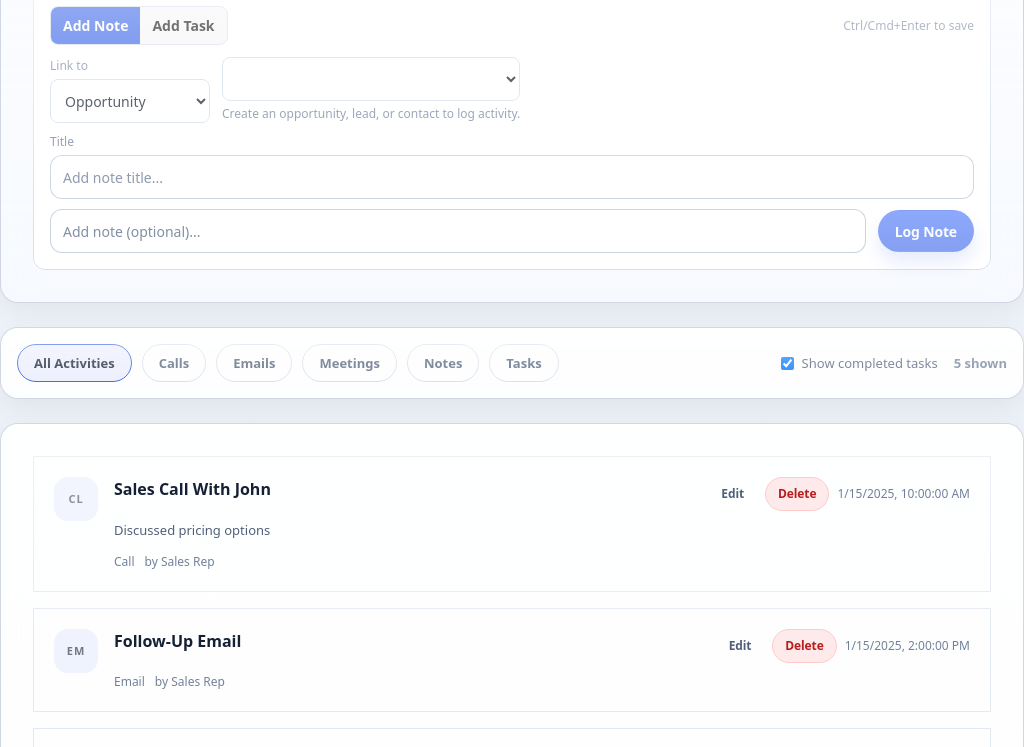
Scenario: ActivitiesPage › filters activities by type when tab clicked
(page scrolled)
Expected: the text "Sales Call with John" is shown, [114,477,271,501]
Expected: the text "Follow-up Email" is shown, [114,629,241,653]
# Click on Calls filter
Click the button "Calls": x=174, y=363 [142,344,206,382]
(page scrolled)
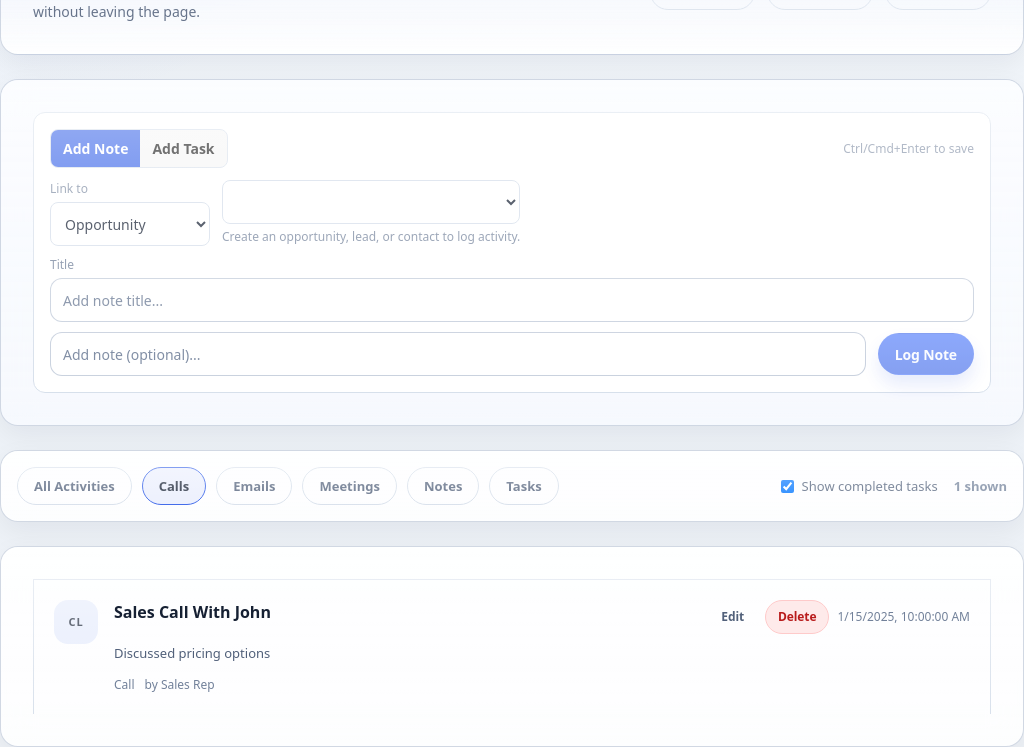
Expected: the text "Sales Call with John" is shown, [114,600,271,624]
Result: the text "Follow-up Email" is gone
